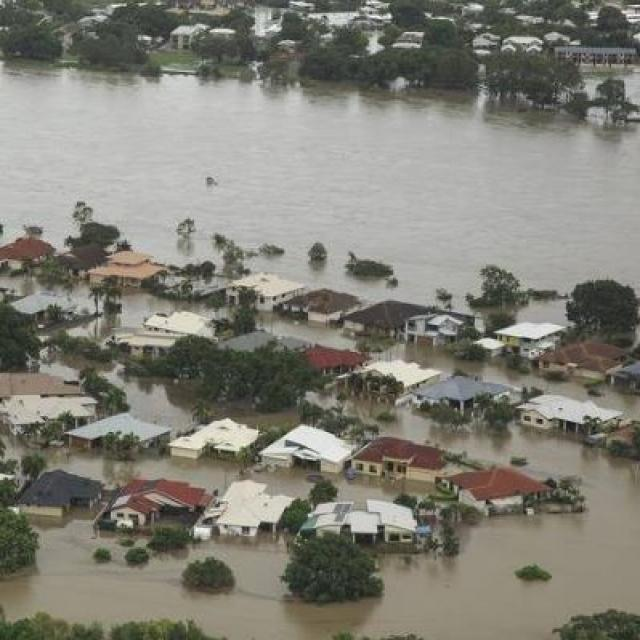flood: (0, 62, 640, 310), (0, 400, 640, 640), (374, 343, 640, 420), (40, 352, 196, 434), (71, 291, 209, 340), (259, 313, 360, 350), (211, 406, 300, 432), (586, 71, 640, 100), (51, 283, 93, 312), (518, 300, 568, 324), (0, 275, 47, 296), (312, 391, 336, 406)
house: (107, 476, 220, 542), (350, 434, 450, 490), (70, 409, 174, 460), (310, 498, 417, 547), (276, 422, 354, 484), (460, 464, 540, 520), (214, 482, 286, 543), (11, 470, 91, 518), (171, 418, 256, 459), (524, 396, 590, 442), (111, 317, 176, 363), (234, 276, 292, 318), (421, 378, 480, 418), (501, 324, 559, 364), (297, 288, 353, 328), (350, 301, 402, 344), (100, 254, 156, 292), (402, 313, 459, 348), (0, 240, 54, 275), (304, 346, 356, 382), (170, 26, 194, 52)
